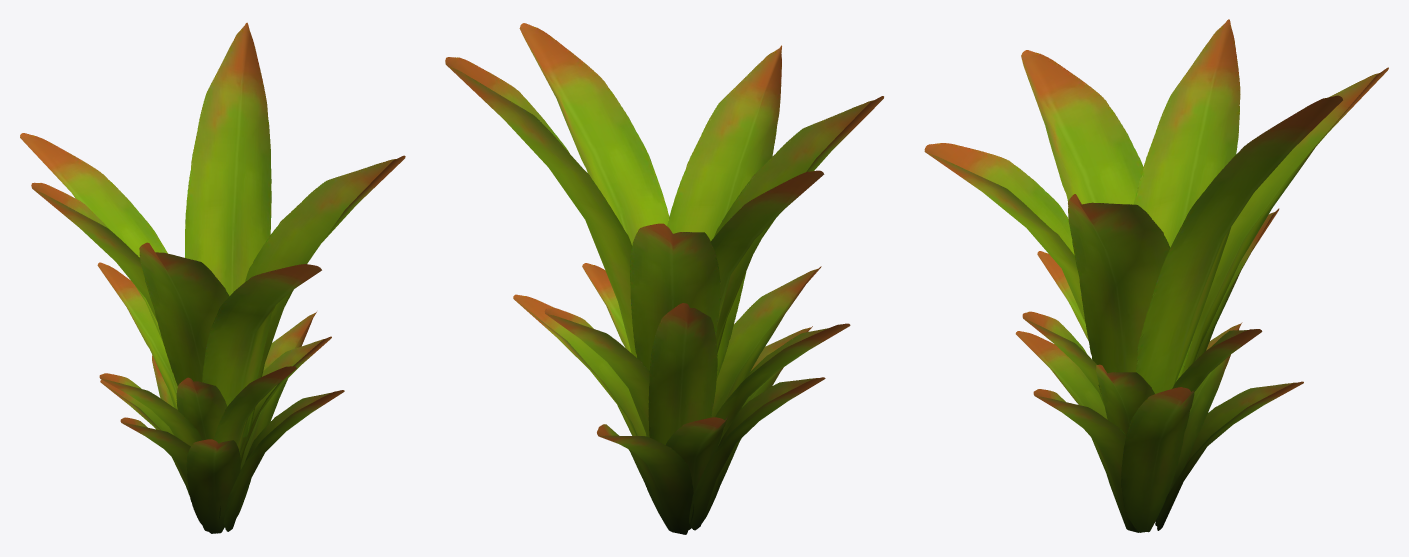
The model's file is Plant_1_Big.gltf.
3 renders of one model, left to right at view 1: azimuth 30°, elevation 25°; view 2: azimuth 150°, elevation 25°; view 3: azimuth 270°, elevation 25°, orthographic. The views are drawn at different scales.
Parts seen in each view (by area): view 1: Plant_1_Big; view 2: Plant_1_Big; view 3: Plant_1_Big.
Boxes of the visible parts, bbox=[...] form: Plant_1_Big: bbox=[20, 22, 405, 533]; Plant_1_Big: bbox=[445, 23, 883, 534]; Plant_1_Big: bbox=[924, 19, 1388, 532].
Size of the model in its own units: 1.81 by 2.35 by 1.95.
Materials: 1 (1 with a texture image).
